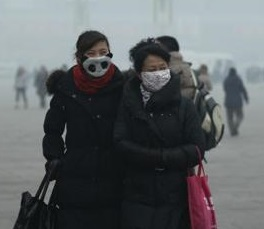person: (123, 33, 220, 227), (42, 28, 131, 228), (153, 35, 221, 147), (219, 64, 251, 140), (10, 62, 33, 111), (34, 63, 51, 109), (194, 63, 214, 93), (245, 66, 264, 84)
